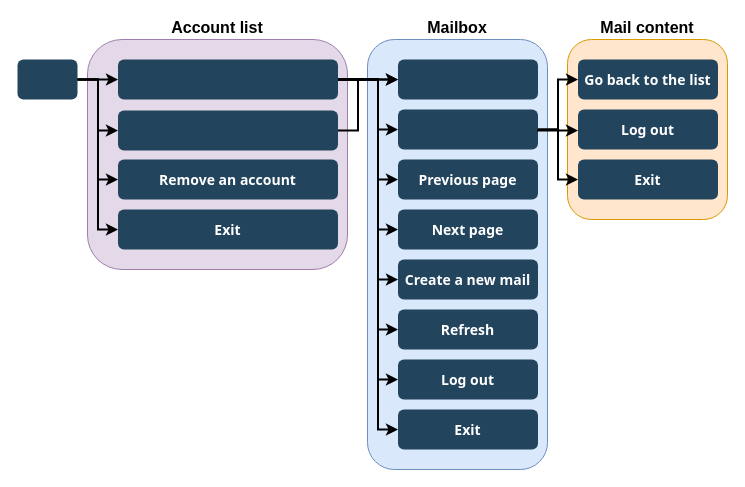
Some shapes in this 745 by 487 pixel diagram are drawn without their labels. Here are the shapes that lost their labels. From the top down, the centre of each, then its label:
point 47,79: Start
point 228,79: Login with an existing account
point 468,79: Change label
point 228,130: Login with another account
point 468,129: View the mail
